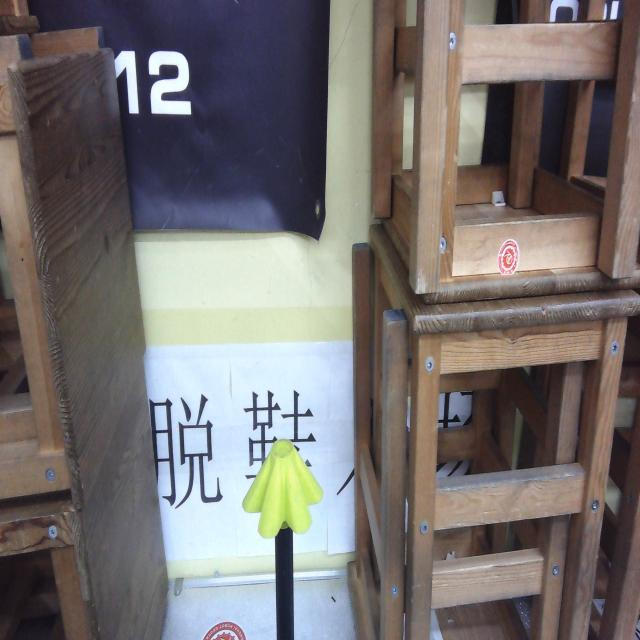Yellow-Stake-Head: (242, 439, 324, 538)
